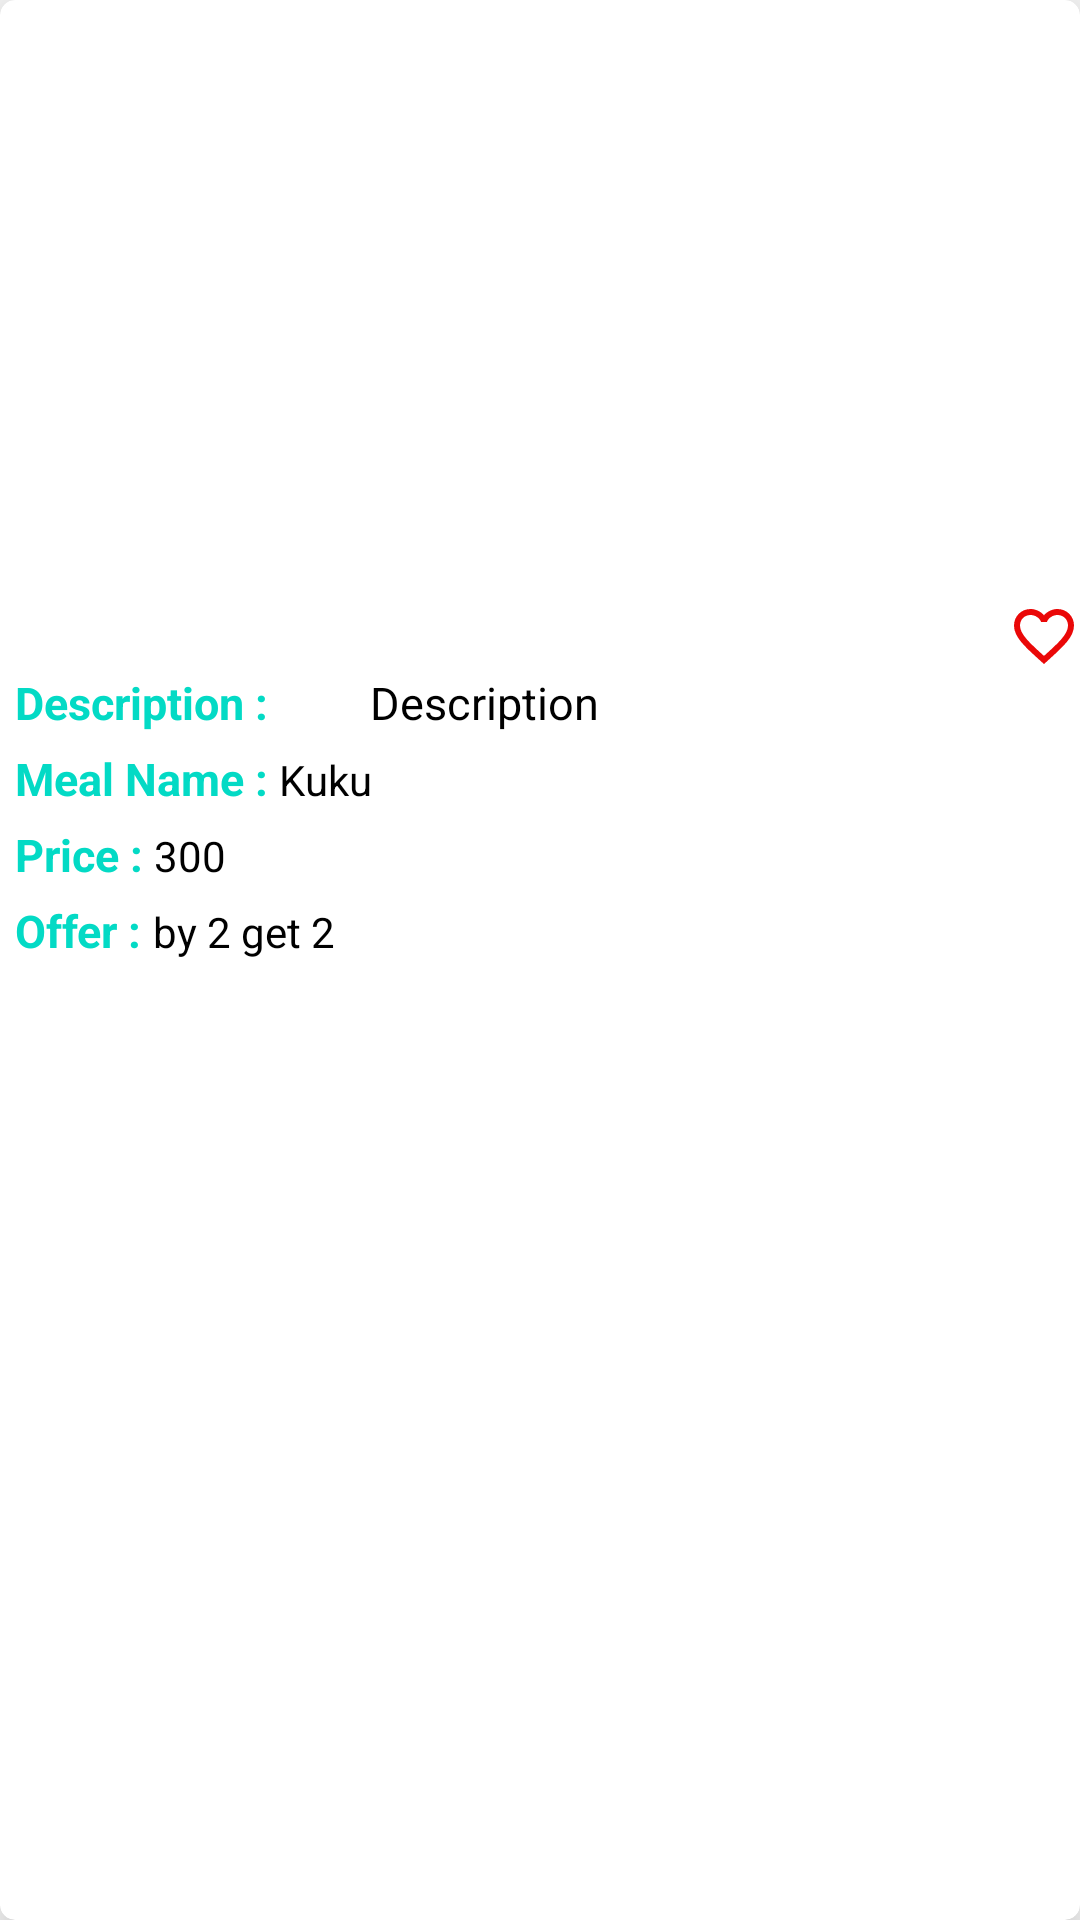

Icons on this 1080px×1920px Android screen, each with the point to tap as [x,y]:
fav border: [1044,636]
